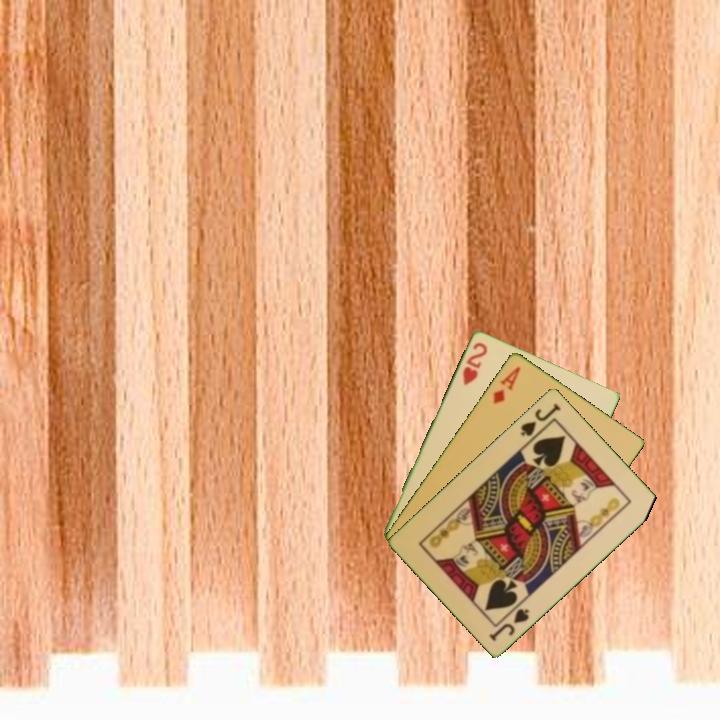2h: (459, 338, 490, 388)
Ad: (489, 363, 523, 406)
Js: (517, 399, 564, 439), (486, 604, 532, 644)
